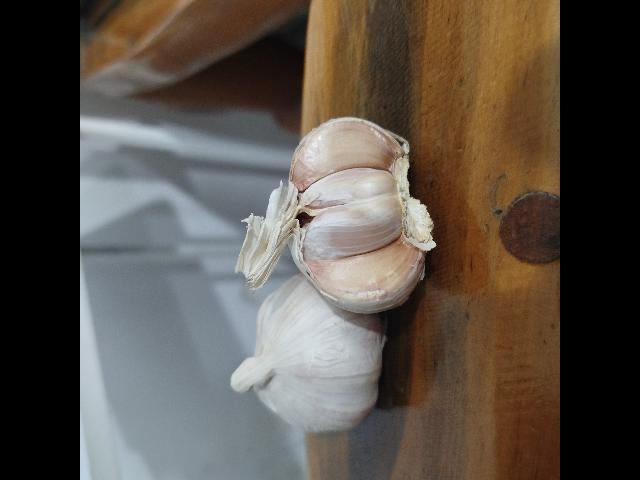garlic: (234, 115, 436, 313), (230, 272, 386, 432)
